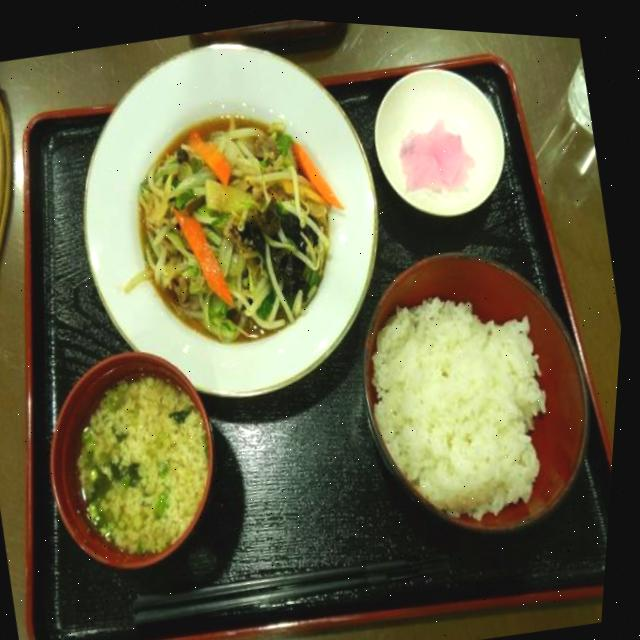汤锅炖物: (21, 323, 256, 590)
米饭主食: (329, 225, 626, 558)
蔬菜料理: (46, 4, 420, 428)
